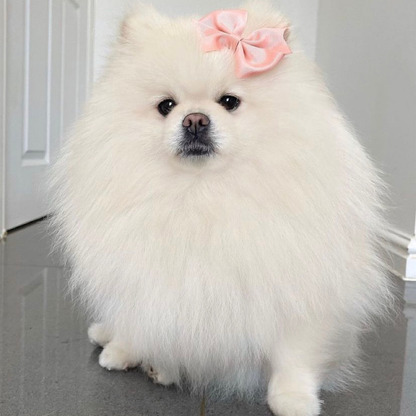Pomeranian: (48, 17, 404, 397)
